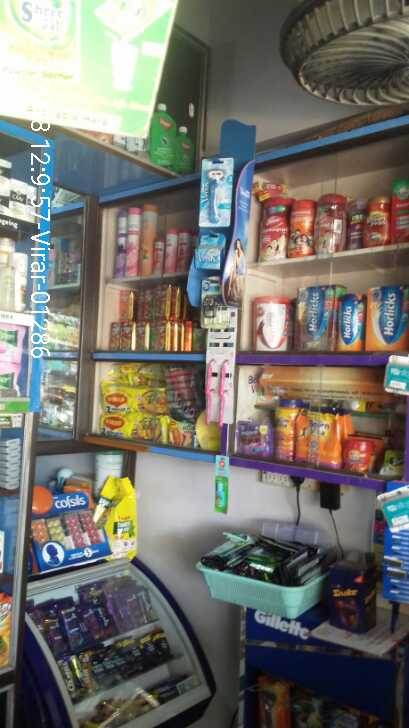venus: (197, 159, 235, 228), (194, 231, 228, 275)
